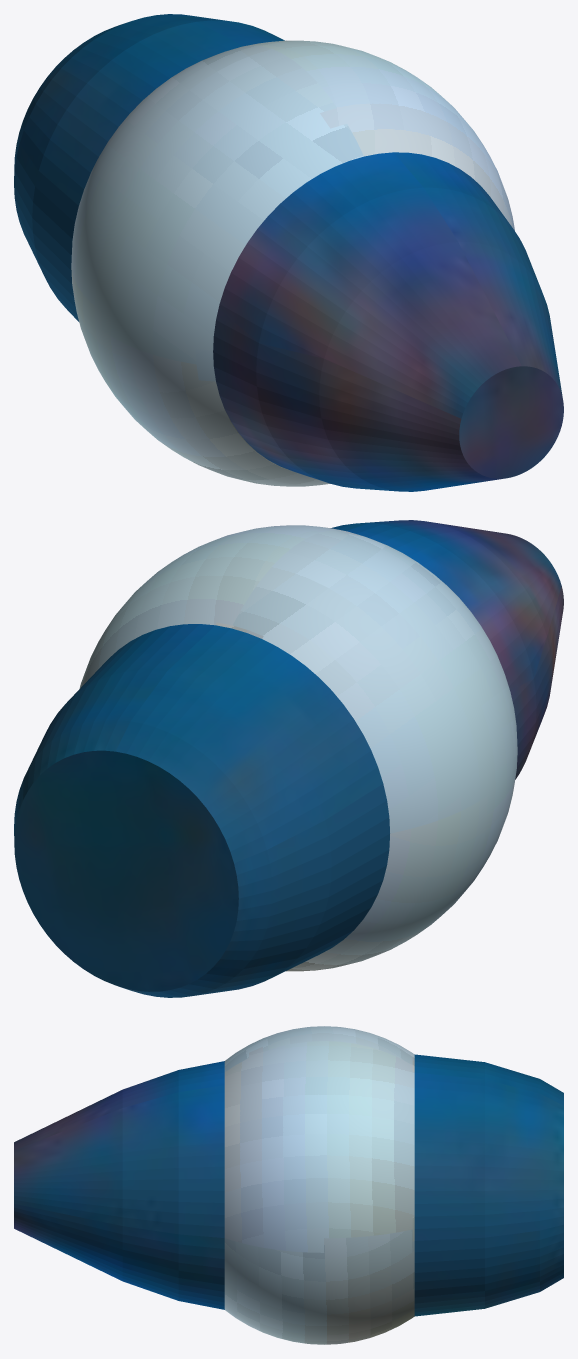
The model's file is bowling-chain-textures.glb.
3 views of the same model, one above another, from view 1: azimuth 30°, elevation 25°; view 2: azimuth 150°, elevation 25°; view 3: azimuth 270°, elevation 25° (orthographic). The views are drawn at different scales.
Parts seen in each view (by area): view 1: blue_belly, ball_geom; view 2: blue_belly, ball_geom; view 3: blue_belly, ball_geom.
Boxes of the visible parts, x1=… form: blue_belly: x1=14, y1=14, x2=563, y2=491; ball_geom: x1=71, y1=40, x2=514, y2=486; blue_belly: x1=14, y1=520, x2=563, y2=997; ball_geom: x1=79, y1=525, x2=517, y2=971; blue_belly: x1=14, y1=1054, x2=563, y2=1316; ball_geom: x1=224, y1=1026, x2=414, y2=1344.
Size of the model in its own units: 0.0637 by 0.0637 by 0.1099.
31 materials, 31 textured.
